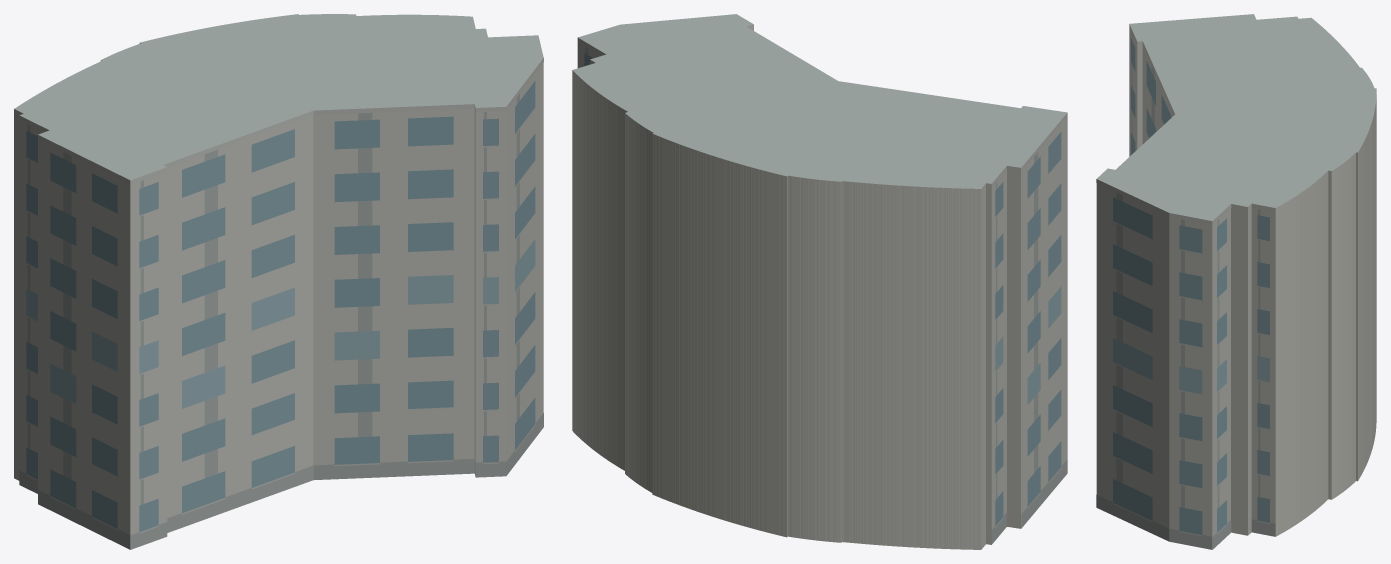
The model's file is survey-upis-32710547.glb.
3 views of the same model, side by side, from view 1: azimuth 30°, elevation 25°; view 2: azimuth 150°, elevation 25°; view 3: azimuth 270°, elevation 25° (orthographic). The views are drawn at different scales.
Visible parts, largest first — view 1: survey-upis-32710547.tmp; view 2: survey-upis-32710547.tmp; view 3: survey-upis-32710547.tmp.
Part boxes in pixels (x1,y1,x2,y2): survey-upis-32710547.tmp: (14, 14, 543, 549); survey-upis-32710547.tmp: (572, 14, 1067, 549); survey-upis-32710547.tmp: (1096, 14, 1376, 549).
Size of the model in its own units: 26.9 by 19.9 by 15.37.
